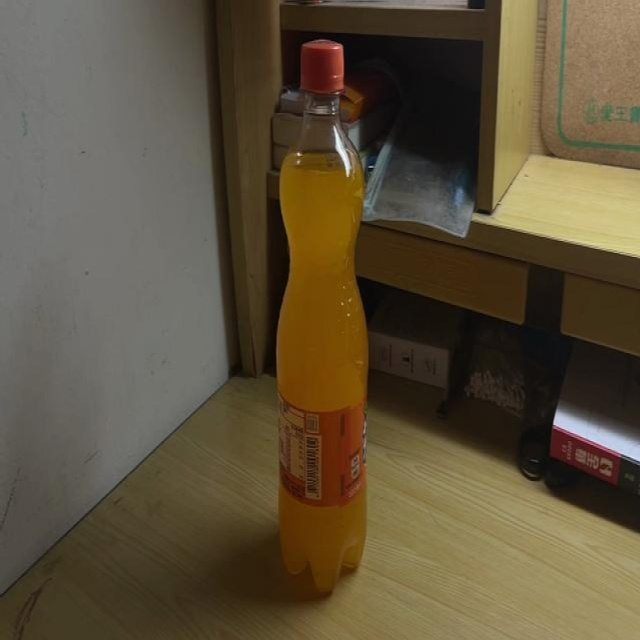Fanta: (276, 39, 370, 600)
